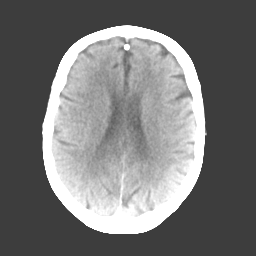ischemic: (91, 97, 107, 132)
